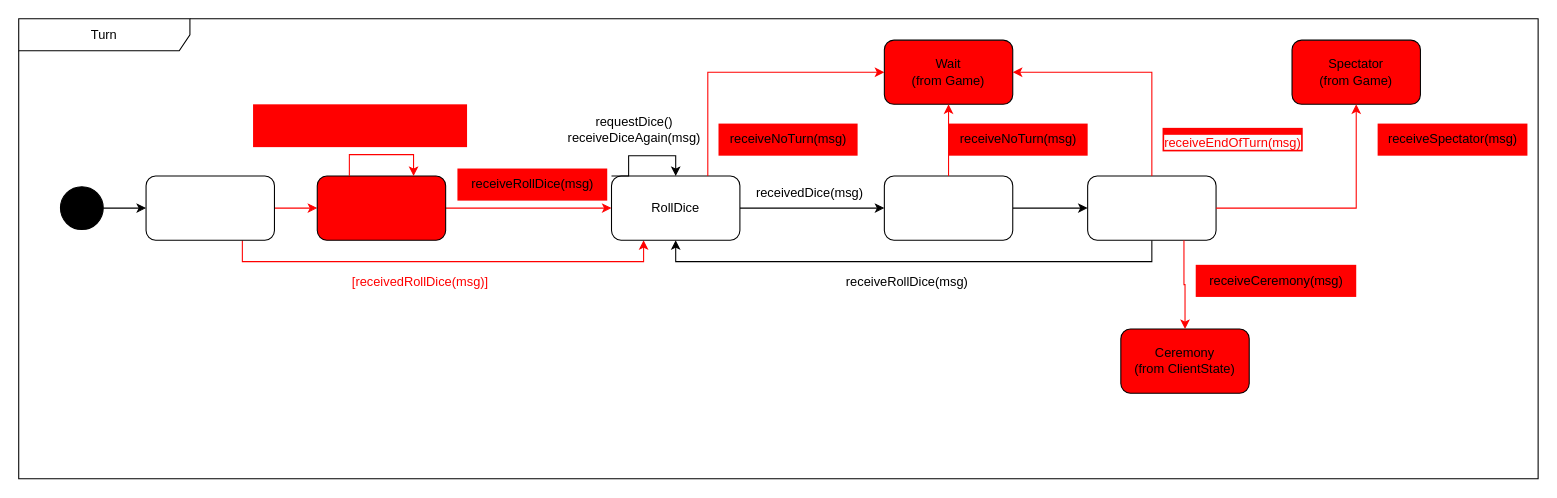
The diagram is 1557 pixels wide and 498 high, and some of its shapes have lost their labels. Here are the shapes that lost their labels. From the top down, the centre of each, then its label:
At [360,125]: "[endOfAnimation]/ sendAnimationEndMessage(msg)".
At [209,207]: "PowerCard".
At [381,207]: "PlayPowerCard".
At [948,207]: "ChoosePiece".
At [1151,207]: "MovePiece".
